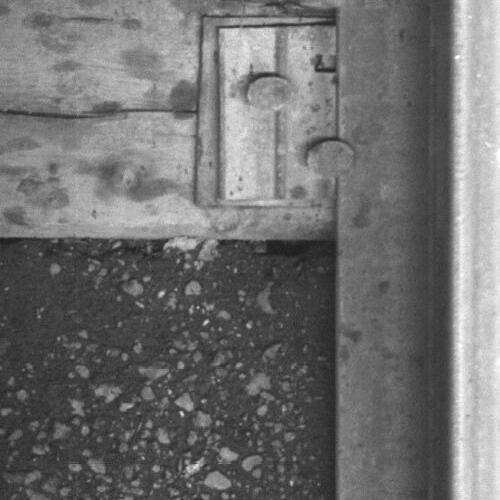do: (218, 22, 358, 202)
rail: (450, 1, 500, 500)
tie_wood: (1, 1, 339, 240)
wood_crack: (1, 102, 202, 123)
